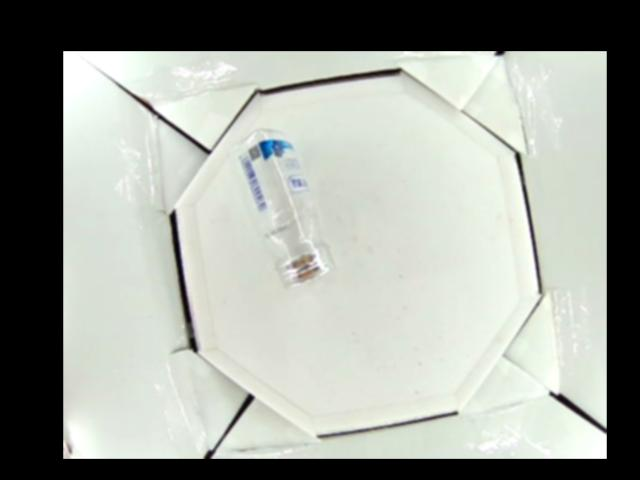Bottle: (228, 130, 335, 286)
